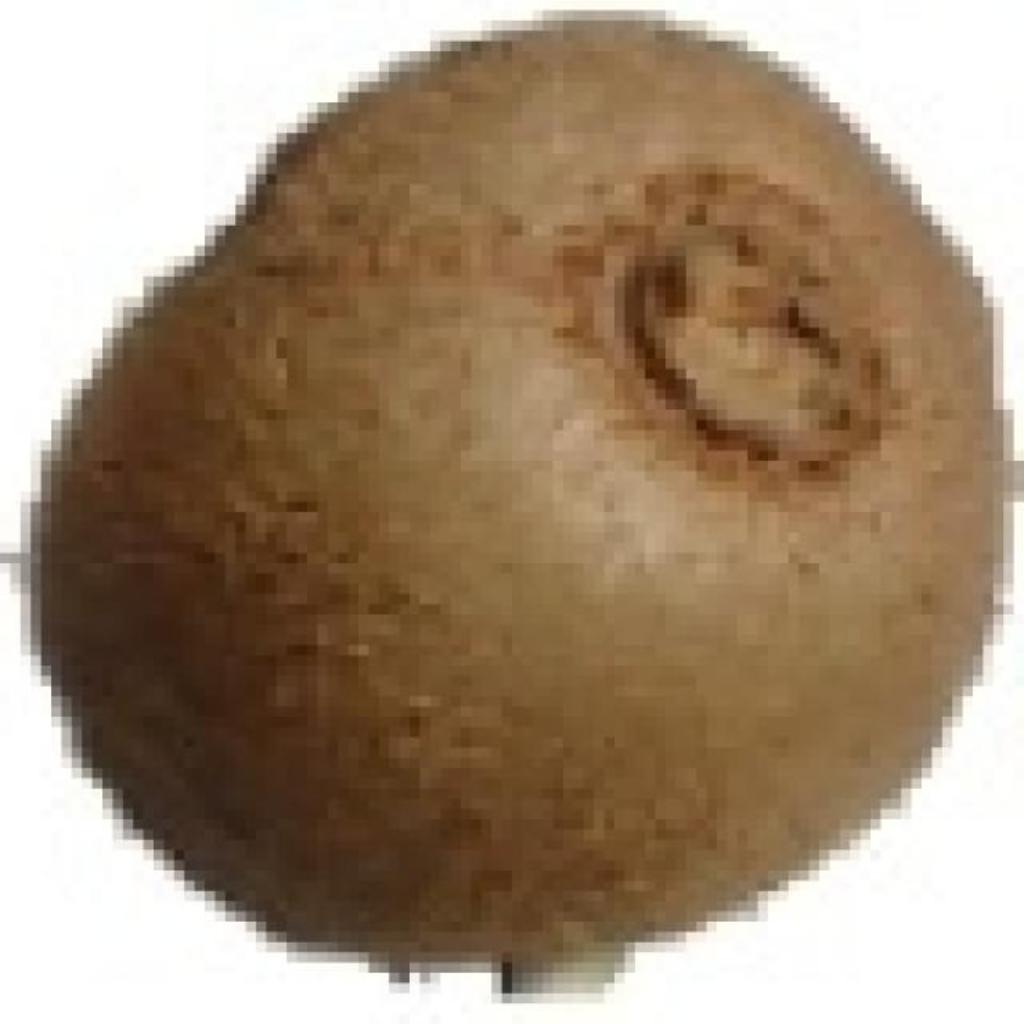kiwi: (43, 20, 1006, 983)
